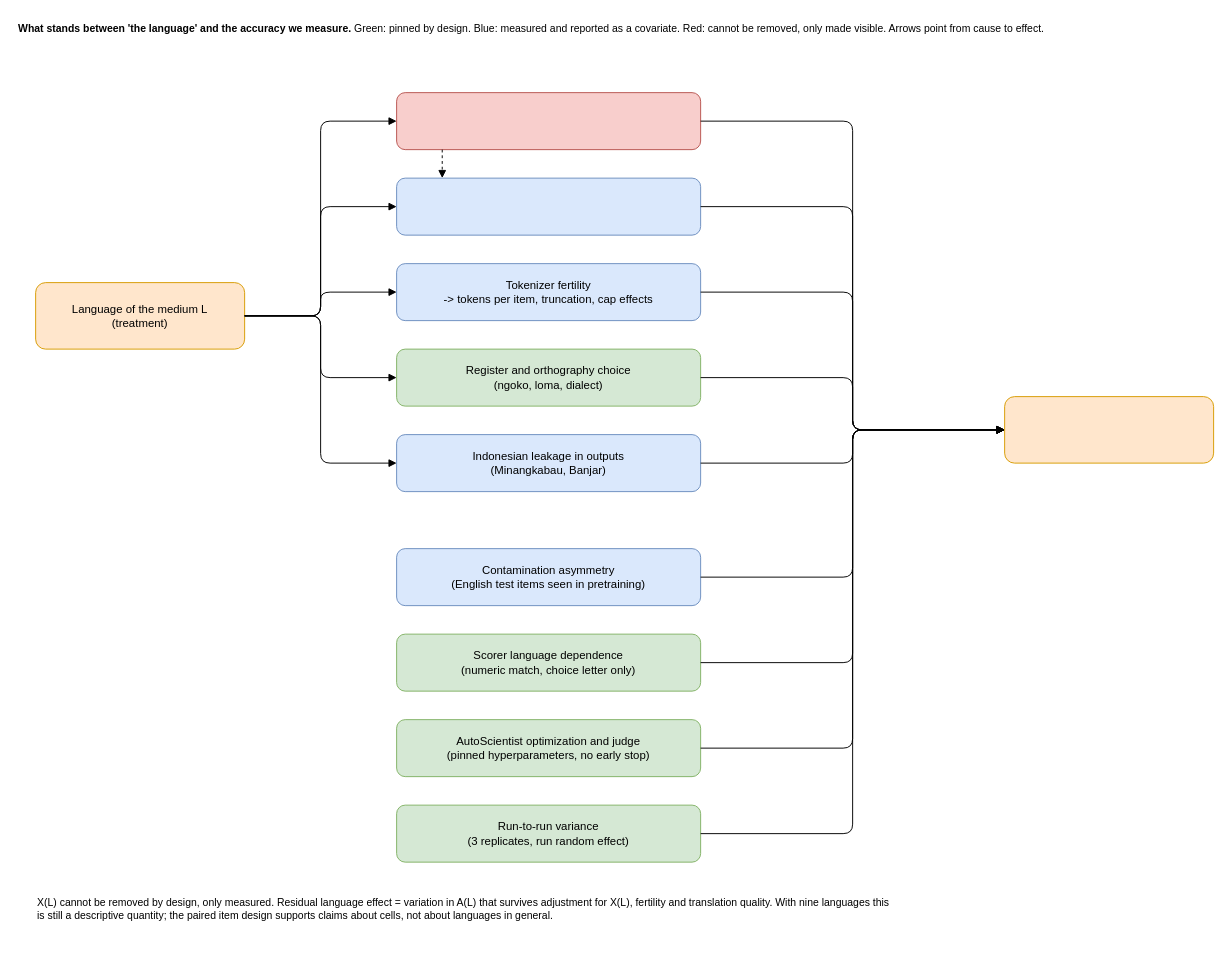
Some shapes in this 1230 by 973 pixel diagram are drawn without their labels. Each missing label, with the centre of its shape:
Base-model pretraining exposure X(L): point 548,121
Measured accuracy A(L): point 1109,429
Translator competence in L -> training data quality and eval item validity: point 548,206
